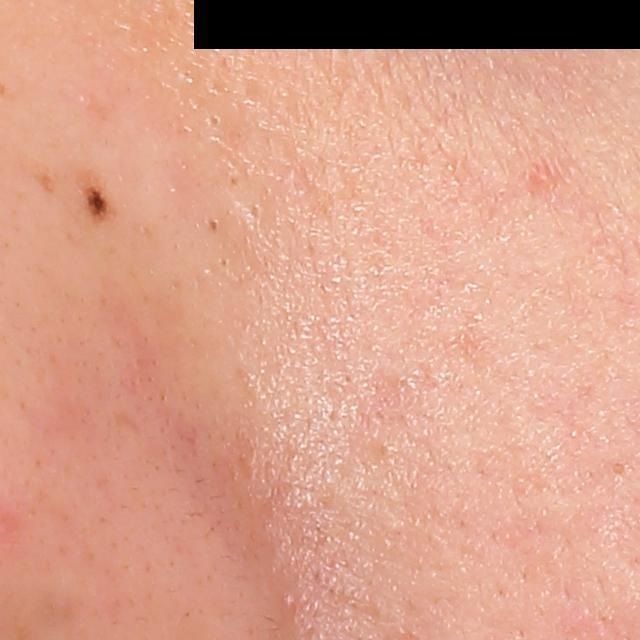comedo: (198, 106, 231, 137), (241, 196, 270, 228), (199, 212, 230, 241), (224, 168, 247, 192)
nevus: (73, 170, 115, 226)
